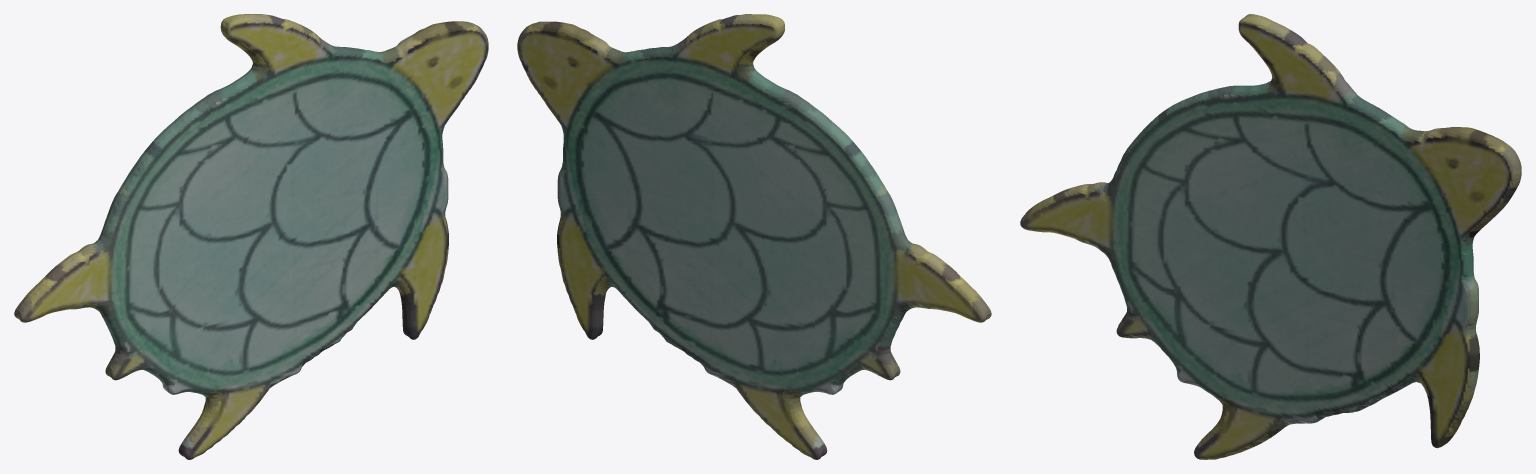
Rendered from turtle.gltf.
3 views of the same model, side by side, from view 1: azimuth 30°, elevation 25°; view 2: azimuth 150°, elevation 25°; view 3: azimuth 330°, elevation 25° (orthographic). The views are drawn at different scales.
Bounding box in the file's own units: 0.2881 × 0.2518 × 0.00998.
